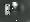person: (13, 4, 19, 16), (6, 5, 11, 16)
